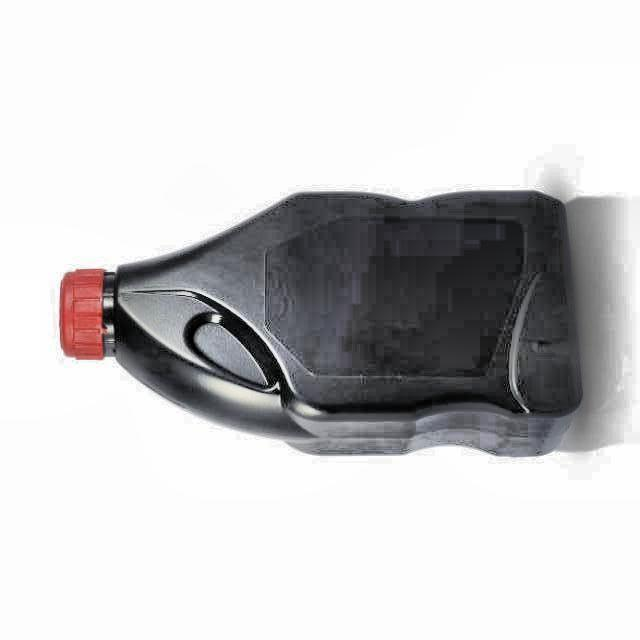plastic: (60, 191, 582, 456)
